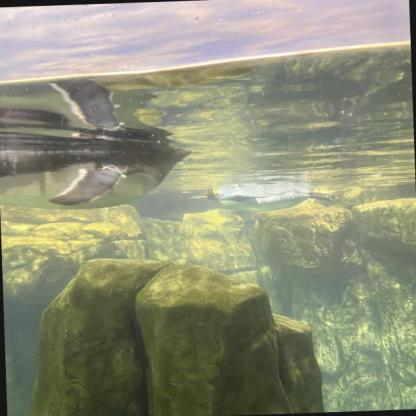penguin: (0, 120, 196, 212), (186, 183, 336, 213)
